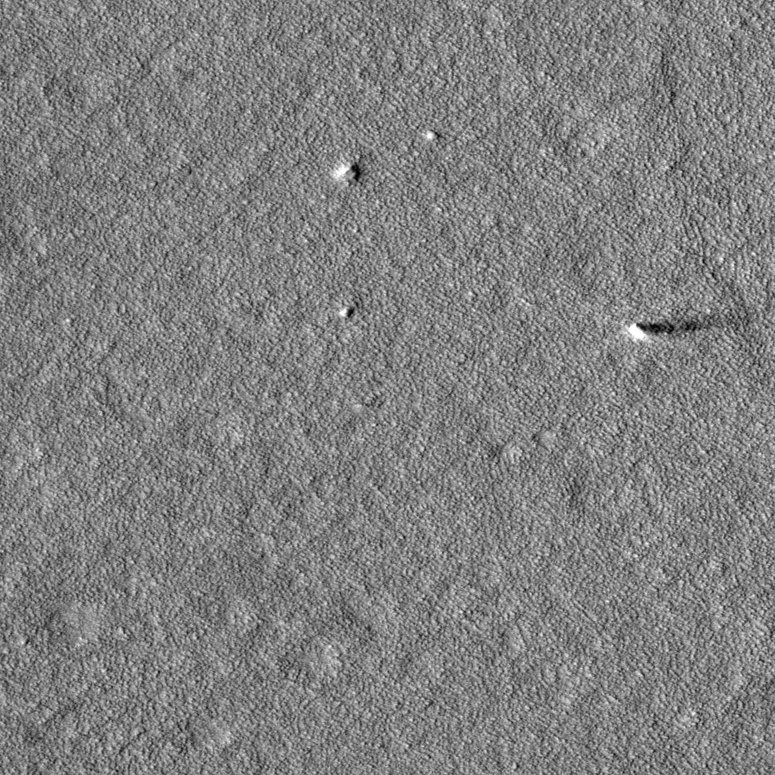dust_devil: (625, 312, 741, 344)
